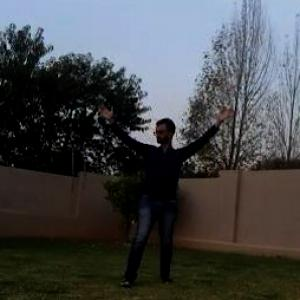takeoff: (87, 102, 234, 284)
